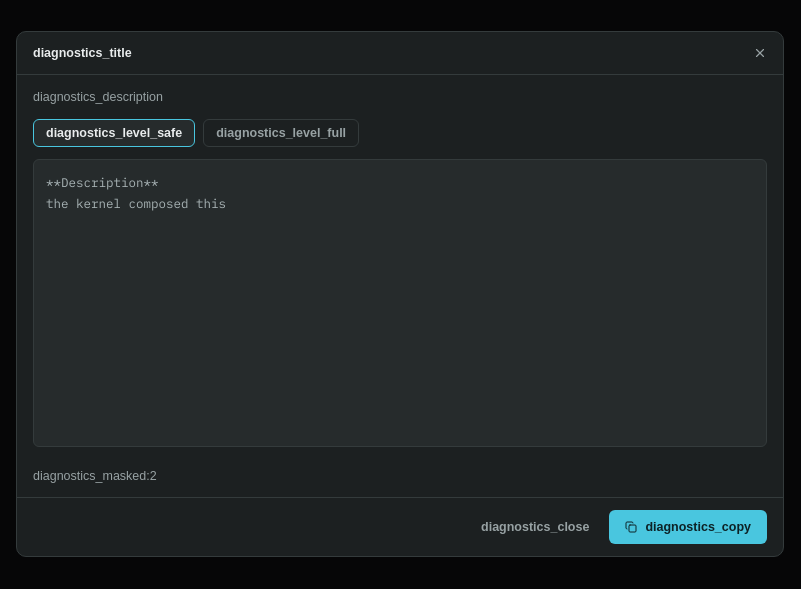
Test: DiagnosticsModal › re-composes at the full level when the level is switched
expect the text box is shown: met, box x1=33 y1=159 x2=767 y2=447
Click the button "diagnostics_level_full" at (281, 133), box x1=203 y1=119 x2=359 y2=147
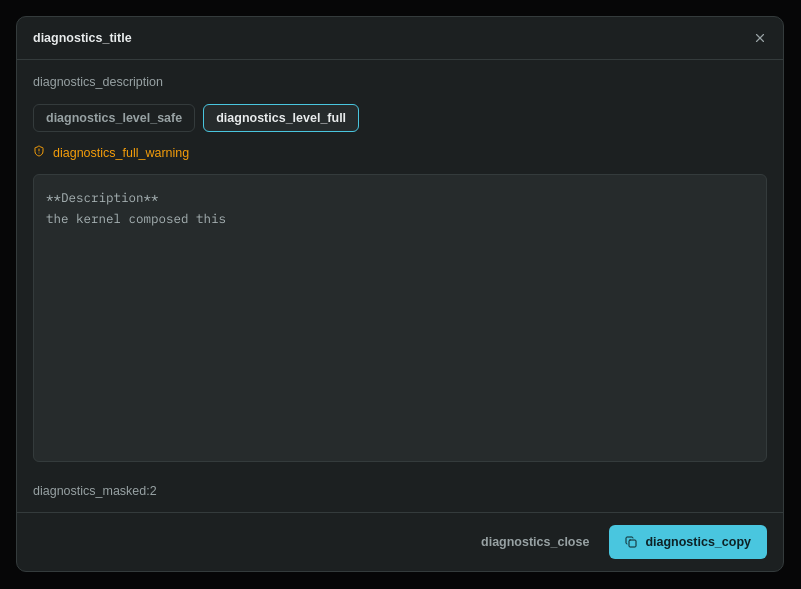
expect the text "diagnostics_full_warning" is shown: met, box x1=53 y1=144 x2=189 y2=162
